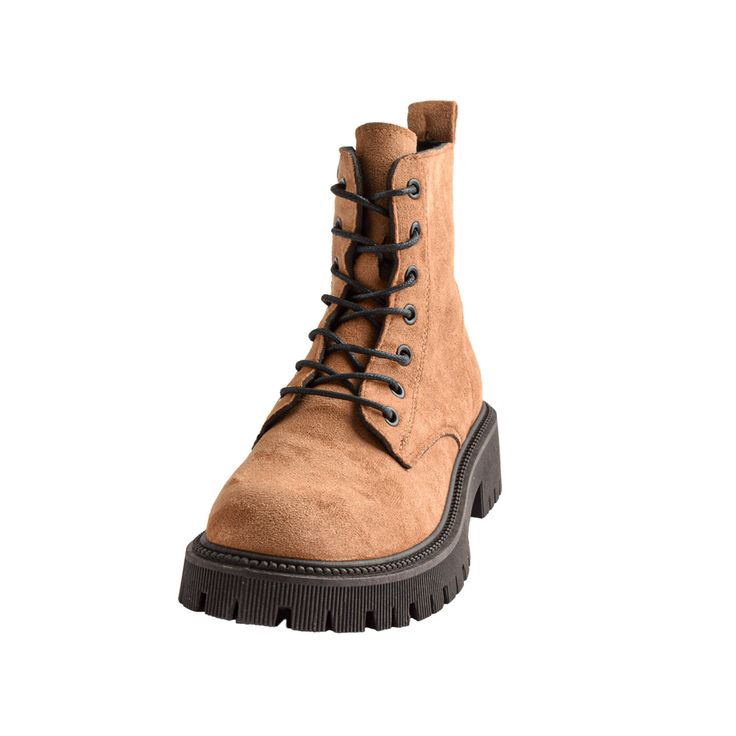gamuza: (205, 100, 483, 564)
